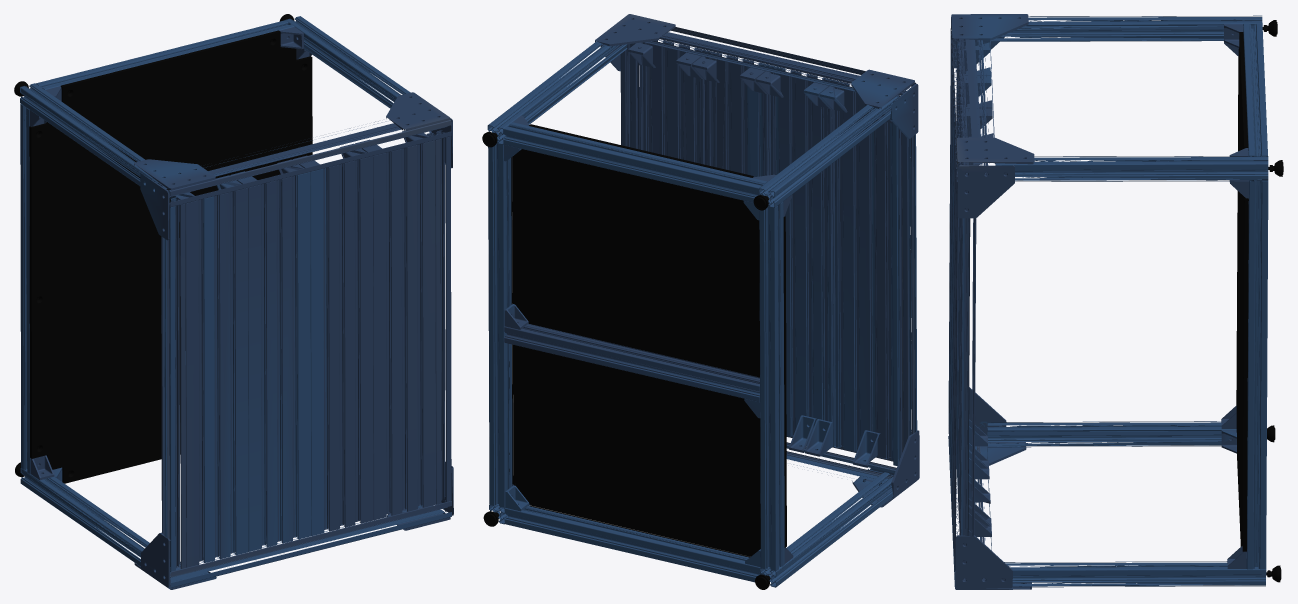
Rendered from vention_table_edit.dae.
3 views of the same model, side by side, from view 1: azimuth 30°, elevation 25°; view 2: azimuth 150°, elevation 25°; view 3: azimuth 270°, elevation 25° (orthographic). The views are drawn at different scales.
Parts seen in each view (by area): view 1: node; view 2: node; view 3: node.
Part boxes in pixels (x1,y1,x2,y2): node: (14,14,453,589); node: (482,14,919,589); node: (948,14,1283,589).
Bounding box in the file's own units: 830 × 1094 × 775.
